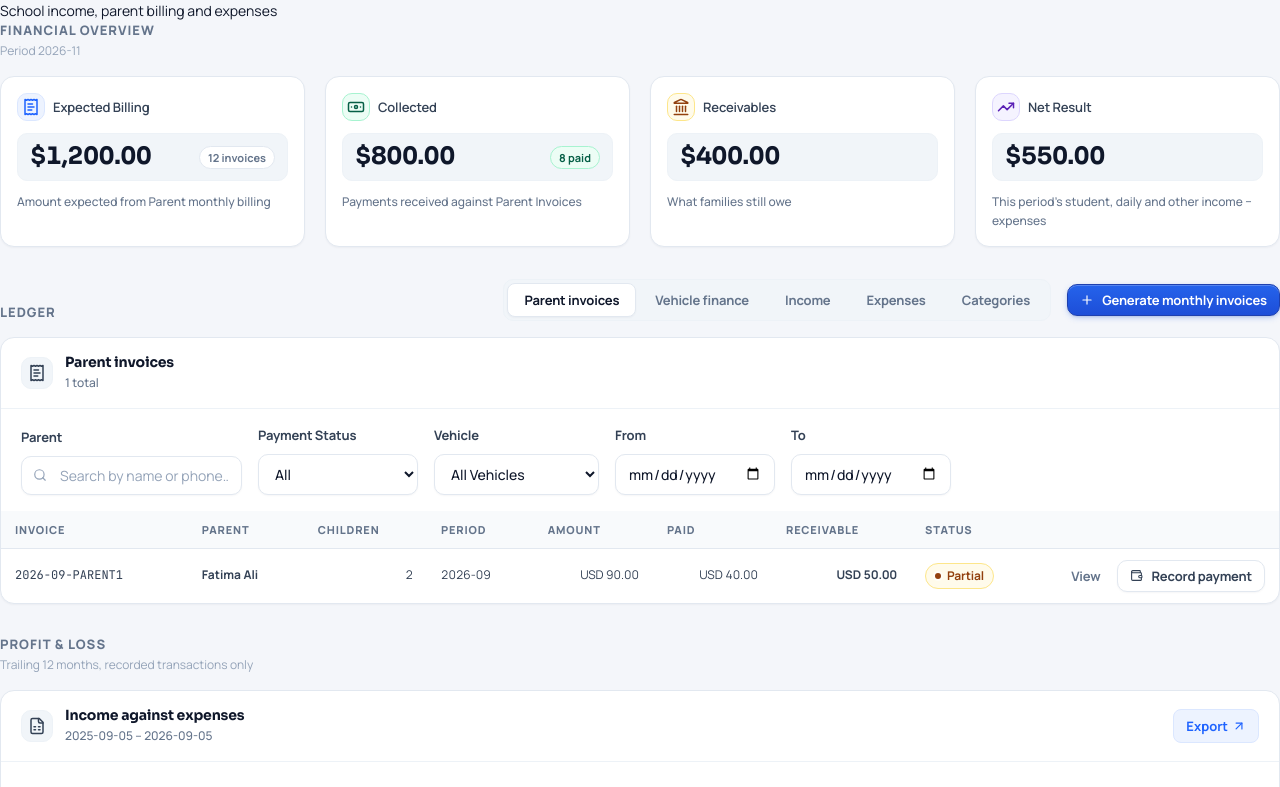
Test: OrgFinancePage › shows a filtered empty state (not the zero-billing state) when a filter narrows the list to nothing
The image size is (1280, 787).
Expected: the text "2026-09-PARENT1" is shown, [1,548,188,603]
Select "BUS-042 · Route A" in the dropdown named "Filter parent invoices by vehicle" at [516, 474], box [434,454,599,495]
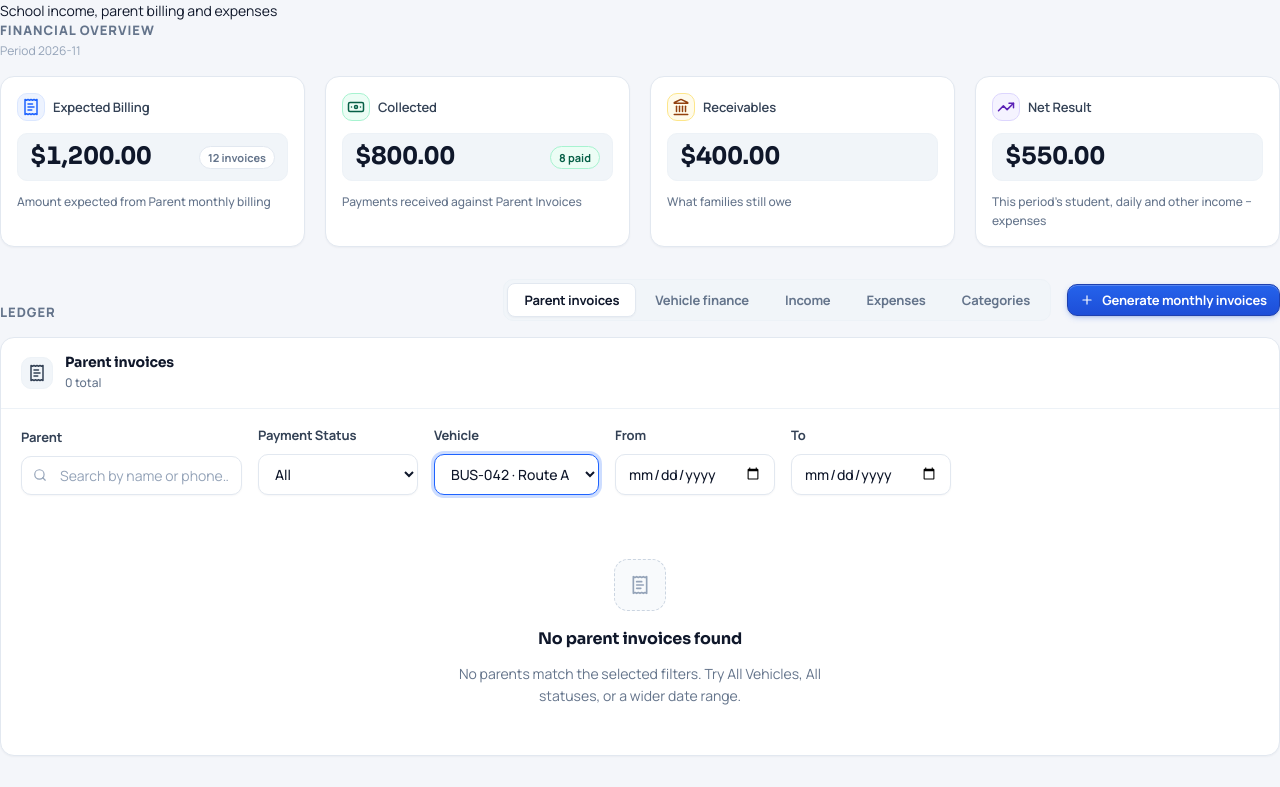
Now the text "No parent invoices found" is shown, box [538,627,742,651]
